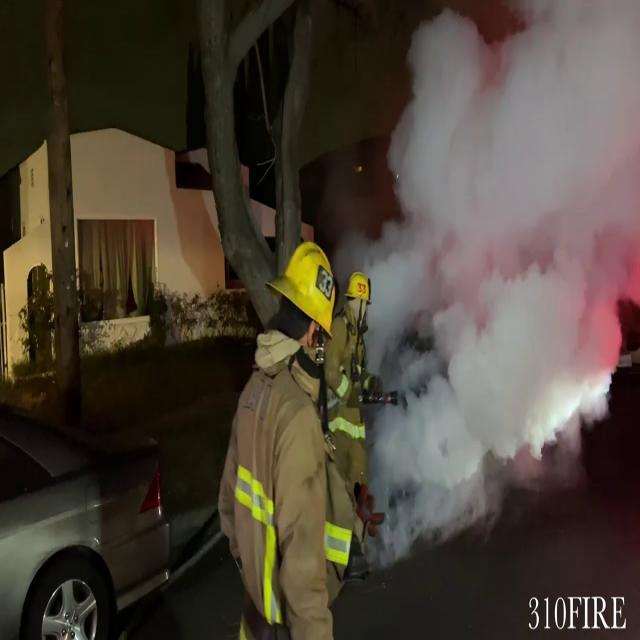Smoke: (352, 0, 640, 554)
